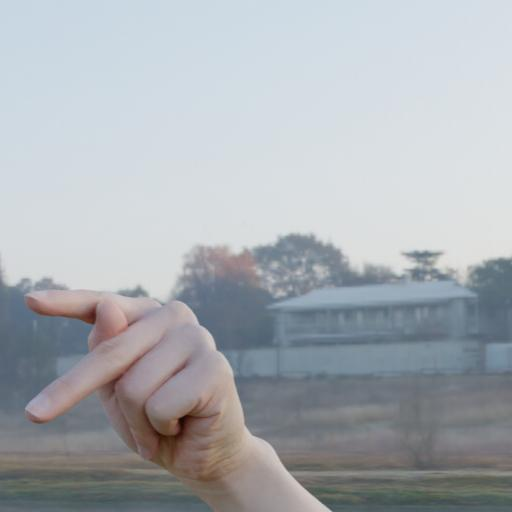P: (16, 281, 260, 484)
